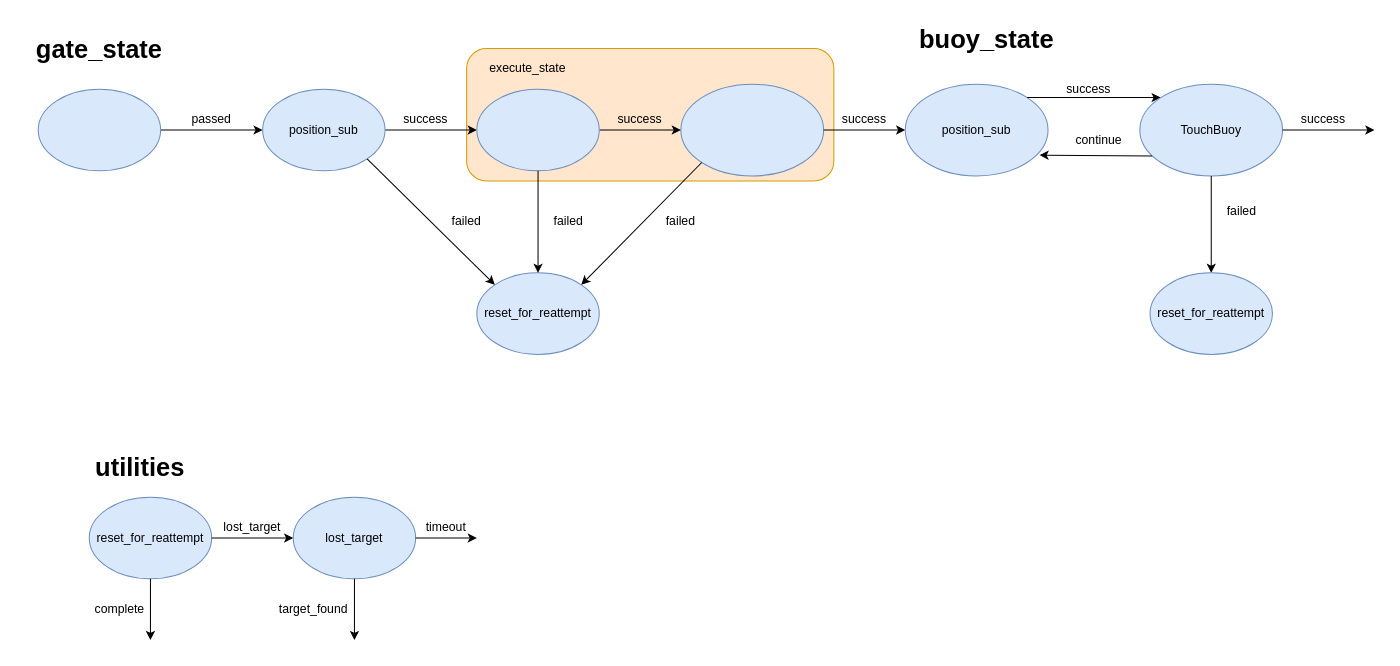
Image size: 1400x666. Some labels were removed from this diagram. Here are the shapes that lost their labels. From the top down, the centre of each, then its label:
At (99,129): "state_zero".
At (537,129): "move_forward_vision".
At (752,129): "move_forward_no_vision".
